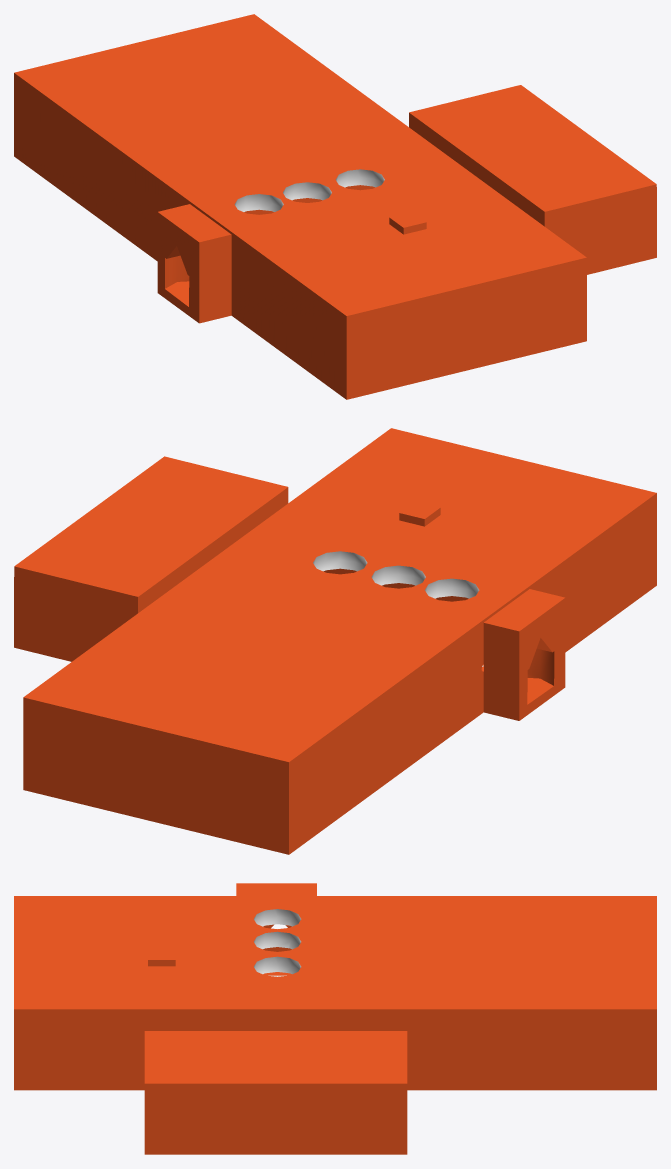
The picture shows the model from 3 angles, top to bottom: view 1: azimuth 30°, elevation 25°; view 2: azimuth 150°, elevation 25°; view 3: azimuth 270°, elevation 25°; orthographic projection. The views are drawn at different scales.
Visible parts, largest first — view 1: Main_Block2, PrivateExhibit2; view 2: Main_Block2, PrivateExhibit2; view 3: Main_Block2, PrivateExhibit2.
Boxes of the visible parts, x1,y1,x2,y2 form: Main_Block2: [14, 14, 656, 399]; PrivateExhibit2: [389, 212, 426, 234]; Main_Block2: [14, 428, 656, 854]; PrivateExhibit2: [399, 501, 440, 526]; Main_Block2: [14, 883, 656, 1154]; PrivateExhibit2: [148, 949, 175, 966].
Size of the model in its own units: 54.85 by 12.18 by 77.04.
